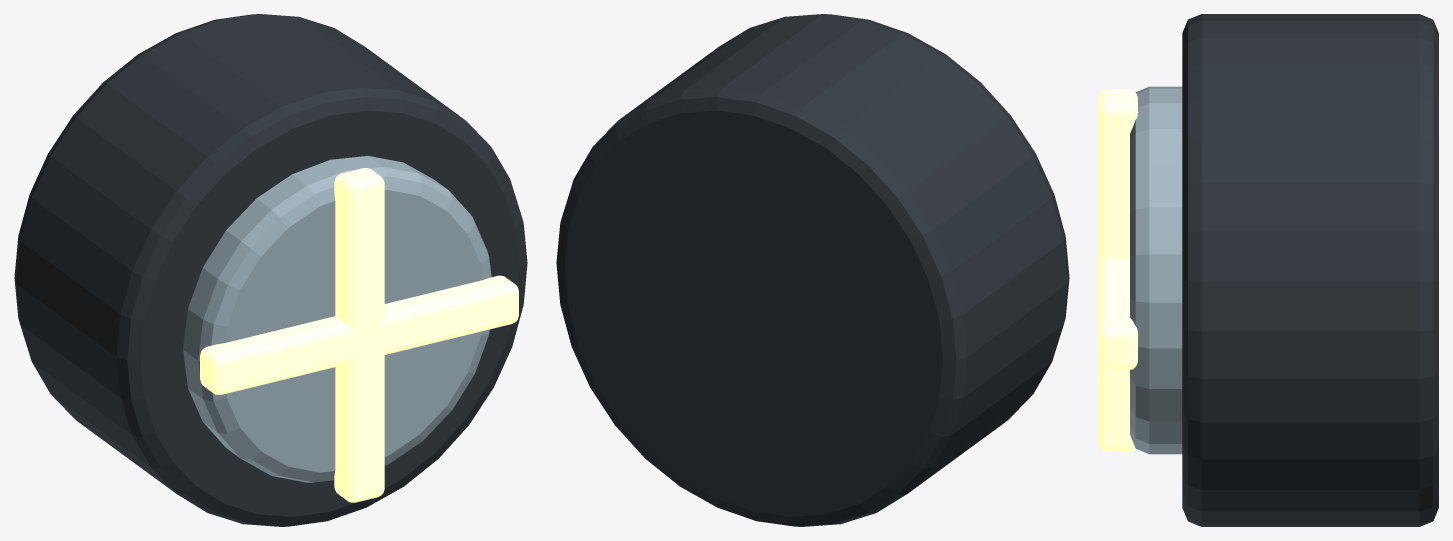
Rendered from SM_EnemyWheel.fbx.
3 views of the same model, side by side, from view 1: azimuth 30°, elevation 25°; view 2: azimuth 150°, elevation 25°; view 3: azimuth 270°, elevation 25° (orthographic). The views are drawn at different scales.
Visible parts, largest first — view 1: SM_EnemyWheel; view 2: SM_EnemyWheel; view 3: SM_EnemyWheel.
Boxes of the visible parts, left/top/right/bottom form: SM_EnemyWheel: left=14, top=14, right=527, bottom=526; SM_EnemyWheel: left=556, top=14, right=1069, bottom=526; SM_EnemyWheel: left=1098, top=14, right=1438, bottom=526.
Bounding box in the file's own units: 32 × 21.25 × 32.
